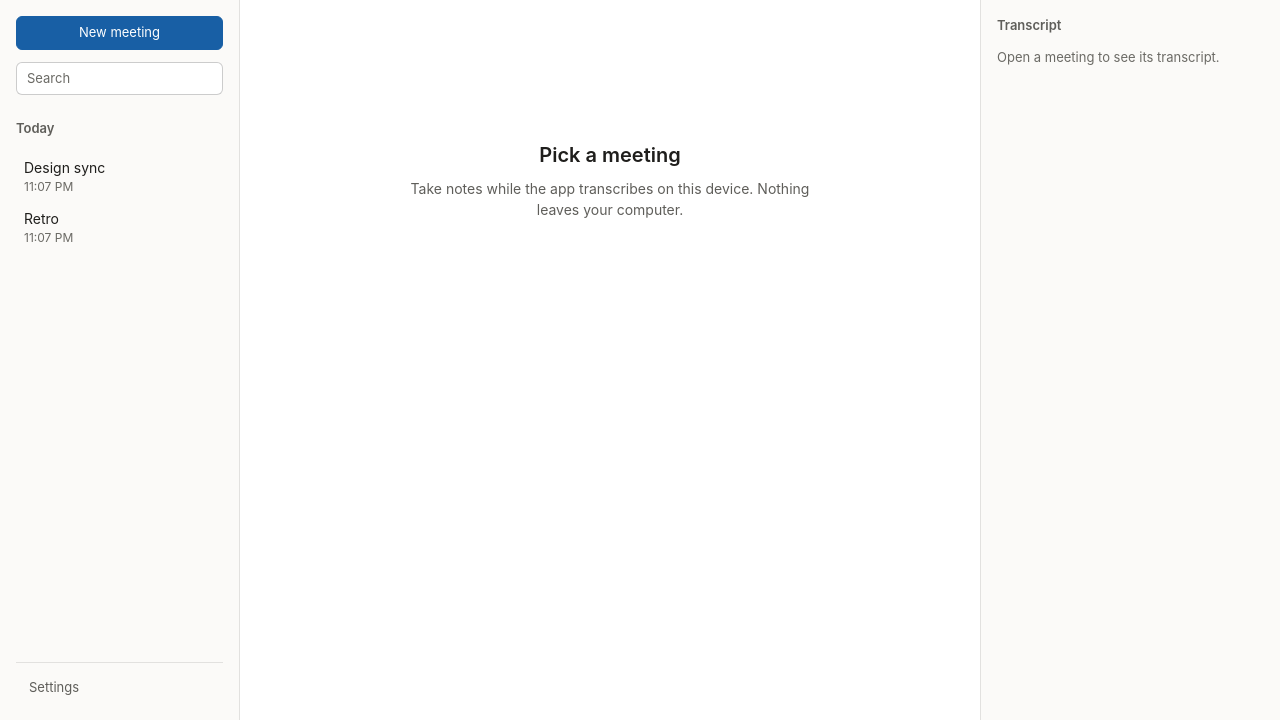
Test case: App › transcript pane › hides while Settings is open and returns with the meeting you click
Click the button "Design sync 11:07 PM" at [120, 176], box top-left (16, 150), bottom-right (223, 202)
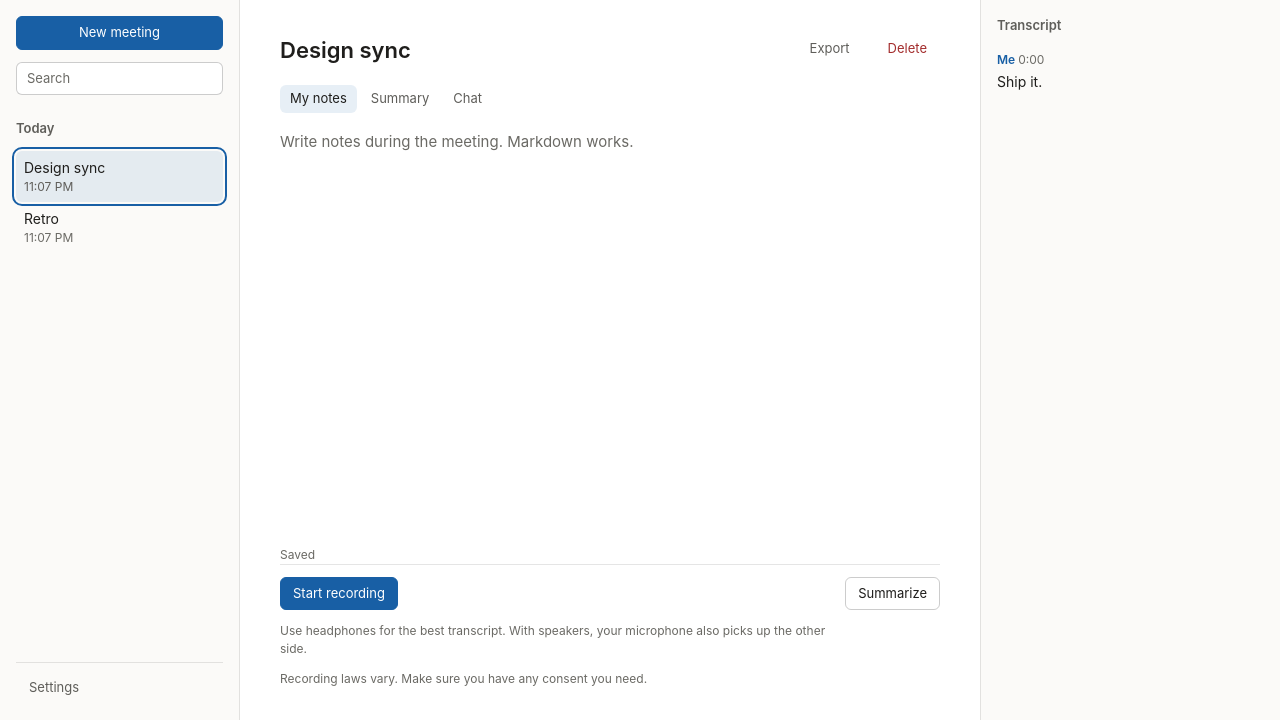
Expected: the element "Transcript" is shown, top-left (980, 0), bottom-right (1279, 719)
Now the field named "Meeting title" is shown, box top-left (276, 32), bottom-right (781, 69)
Click the button "Settings" at [120, 687], box top-left (16, 670), bottom-right (223, 704)
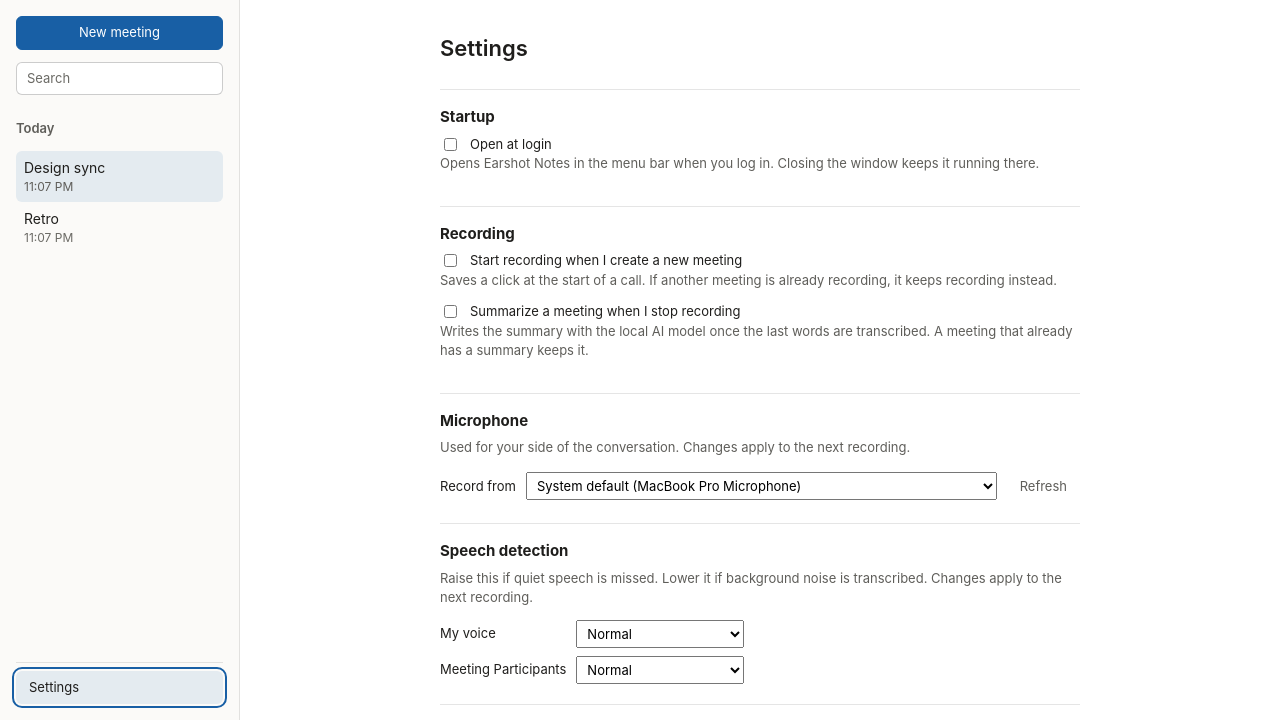
Now the heading "Settings" is shown, box top-left (440, 35), bottom-right (528, 61)
Now the text "transcript" is gone
Click the button "Design sync 11:07 PM" at [120, 176], box top-left (16, 150), bottom-right (223, 202)
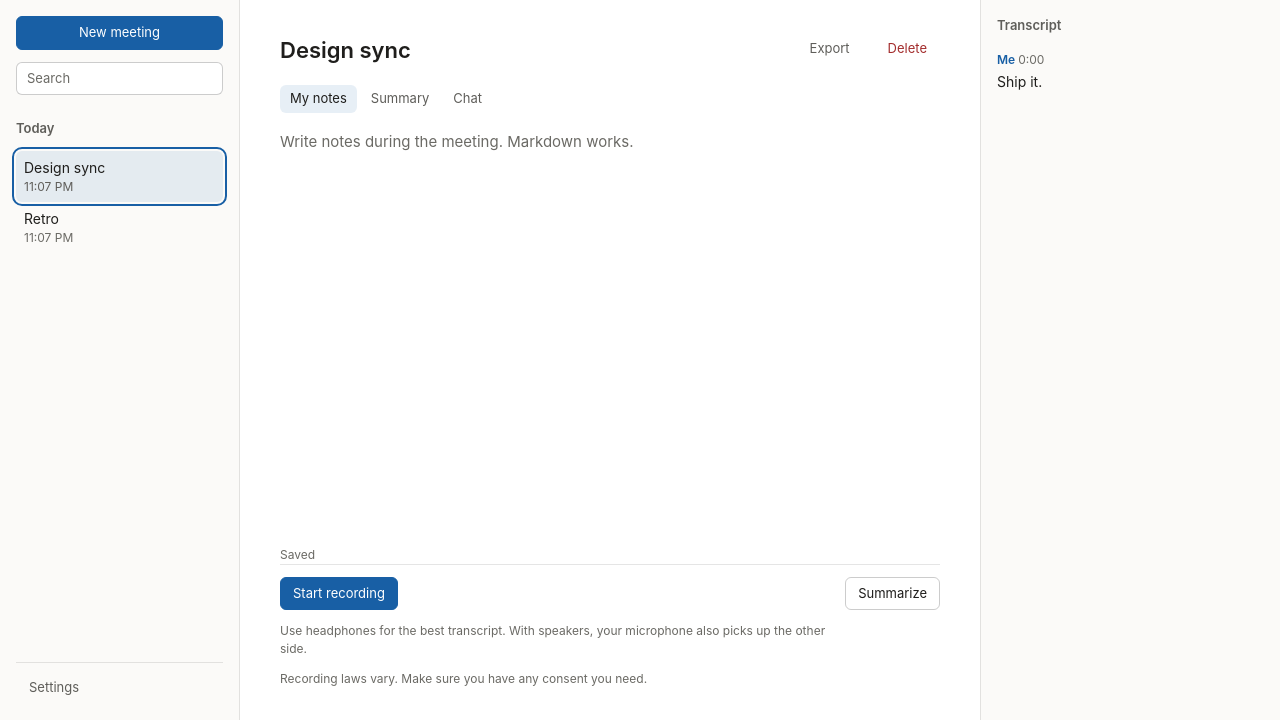
Now the text "Ship it." is shown, box top-left (997, 72), bottom-right (1042, 90)
